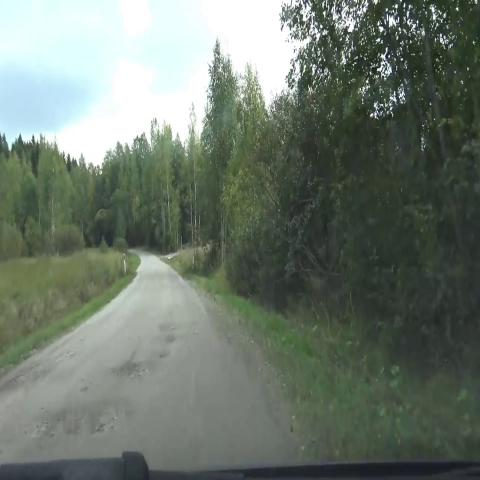pothole: (24, 386, 132, 454), (109, 352, 161, 385), (153, 314, 185, 334), (162, 331, 188, 353), (158, 346, 174, 364)
